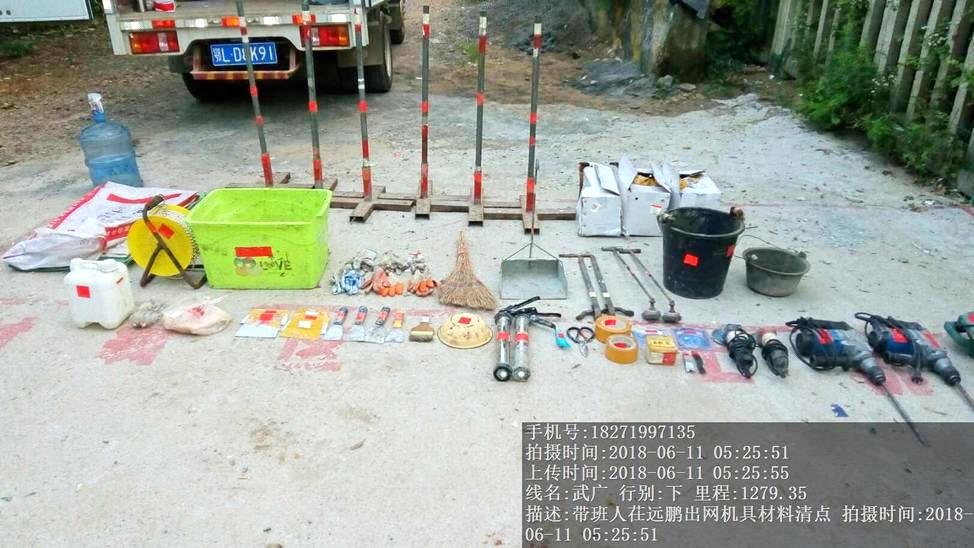DMJ: (713, 323, 753, 380), (757, 325, 789, 378)
DZ: (795, 314, 892, 397), (877, 312, 971, 397)
SB: (437, 228, 501, 314)
SNT: (740, 238, 815, 298)
T: (184, 187, 336, 292)
